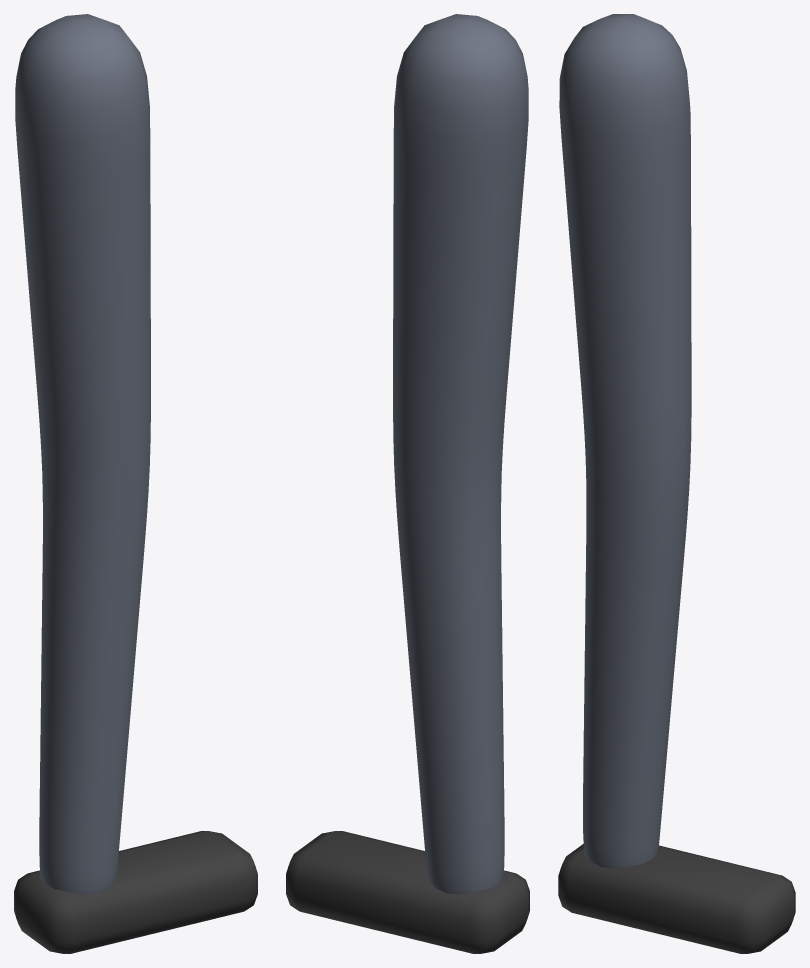
File: SM_Faceling_Leg.fbx
3 views of the same model, side by side, from view 1: azimuth 30°, elevation 25°; view 2: azimuth 150°, elevation 25°; view 3: azimuth 330°, elevation 25° (orthographic). The views are drawn at different scales.
Parts seen in each view (by area): view 1: SM_Faceling_Leg; view 2: SM_Faceling_Leg; view 3: SM_Faceling_Leg.
Part boxes in pixels (x1,y1,x2,y2): SM_Faceling_Leg: [14, 14, 257, 953]; SM_Faceling_Leg: [286, 14, 529, 953]; SM_Faceling_Leg: [558, 14, 795, 953].
Size of the model in its own units: 22.58 by 90.9 by 12.06.
